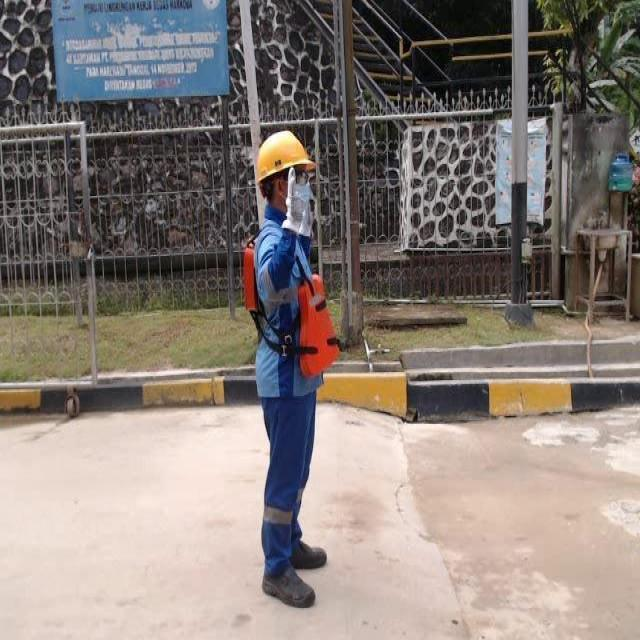Vest: (243, 234, 340, 378)
